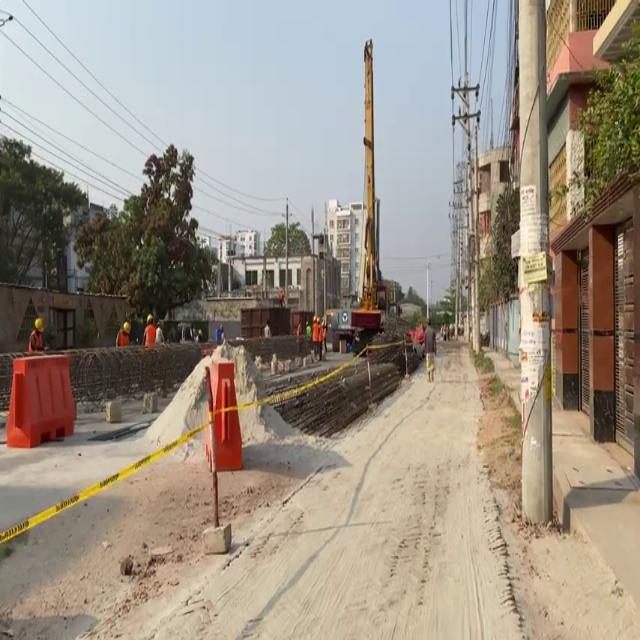Construction-barrier: (472, 351, 532, 639)
Garbage: (4, 353, 76, 448), (203, 359, 243, 471)
Garbage-bin: (28, 317, 48, 352), (115, 320, 131, 346), (214, 324, 224, 344), (262, 320, 271, 338)
Light-pole: (516, 0, 553, 526)
Pothole: (482, 345, 639, 623)
Traffic-cone: (322, 37, 388, 356)
